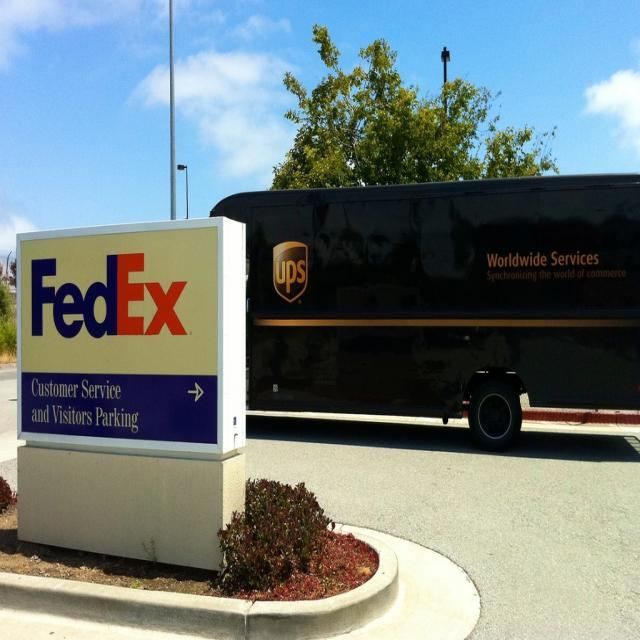fedex: (27, 249, 191, 343)
